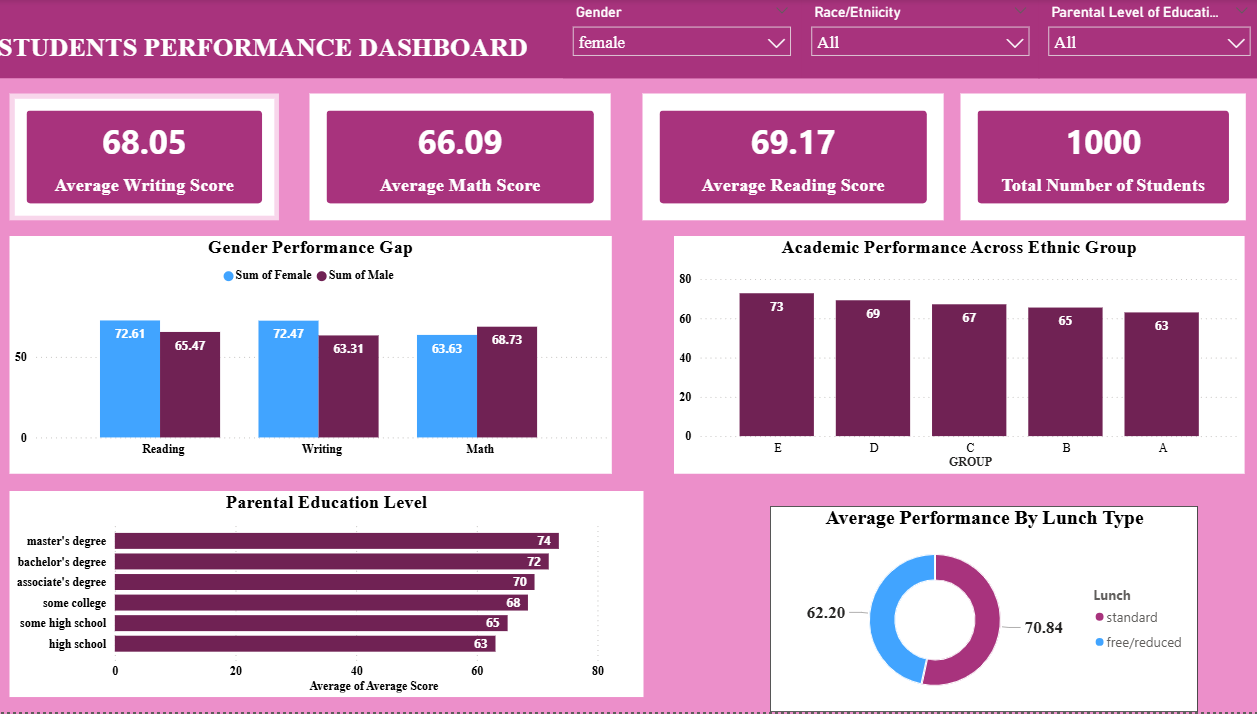

What the dashboard file says about the page in this screenshot:
{"tool":"powerbi","page":{"name":"Page 1","canvas":[1280,720],"ordinal":0},"visuals":[{"type":"cardVisual","fields":{"Data":["Avg(Table 1 (StudentsPerformance).average math score)"]},"box":[320,96,304,128],"z":0},{"type":"cardVisual","fields":{"Data":["CountNonNull(StudentsPerformance.gender)"]},"box":[976,96,288,128],"z":1000},{"type":"cardVisual","fields":{"Data":["Sum(Table 1 (StudentsPerformance).average reading score)"]},"box":[656,96,304,128],"z":2000},{"type":"textbox","box":[0,0,1280,80],"z":3000},{"type":"slicer","fields":{"Values":["Table 1 (StudentsPerformance).race/ethnicity"]},"box":[816,0,240,80],"z":5000},{"type":"slicer","fields":{"Values":["Table 1 (StudentsPerformance).parental level of education"]},"box":[1056,0,224,80],"z":6000},{"type":"cardVisual","fields":{"Data":["Sum(Table 1 (StudentsPerformance).average writing score)"]},"box":[16,96,272,128],"z":7000},{"type":"clusteredColumnChart","title":"Gender Performance Gap","fields":{"Category":["Gender Gap.Subject"],"Y":["Sum(Gender Gap.Female)","Sum(Gender Gap.Male)"]},"box":[16,240,608,240],"z":8000},{"type":"columnChart","title":"Academic Performance Across Ethnic Group","fields":{"Category":["Table.GROUP"],"Y":["Sum(Table.Average 3 subjects for each group)"]},"box":[688,240,576,240],"z":9000},{"type":"clusteredBarChart","title":"Parental Education Level","fields":{"Category":["Parental Level 01.Level of Education"],"Y":["Avg(Parental Level 01.Average Score)"]},"box":[16,496,640,208],"z":10000},{"type":"donutChart","title":"Average Performance By Lunch Type","fields":{"Category":["Lunch 01.Lunch"],"Y":["Sum(Lunch 01.Overall Average)"]},"box":[784,512,432,208],"z":11000},{"type":"slicer","fields":{"Values":["Table 1 (StudentsPerformance).gender"]},"box":[576,0,240,80],"z":12000}]}

Visuals, with their boxes in screenshot pixels (x1, y1, x2, y2), scaled from the page's 1280x720 canvas onto the 1257x714 screenshot:
cardVisual - Avg(Table 1 (StudentsPerformance).average math score): [x1=314, y1=95, x2=613, y2=222]
cardVisual - CountNonNull(StudentsPerformance.gender): [x1=958, y1=95, x2=1241, y2=222]
cardVisual - Sum(Table 1 (StudentsPerformance).average reading score): [x1=644, y1=95, x2=943, y2=222]
textbox: [x1=0, y1=0, x2=1256, y2=79]
slicer - Table 1 (StudentsPerformance).race/ethnicity: [x1=801, y1=0, x2=1037, y2=79]
slicer - Table 1 (StudentsPerformance).parental level of education: [x1=1037, y1=0, x2=1256, y2=79]
cardVisual - Sum(Table 1 (StudentsPerformance).average writing score): [x1=16, y1=95, x2=283, y2=222]
"Gender Performance Gap" clusteredColumnChart: [x1=16, y1=238, x2=613, y2=476]
"Academic Performance Across Ethnic Group" columnChart: [x1=676, y1=238, x2=1241, y2=476]
"Parental Education Level" clusteredBarChart: [x1=16, y1=492, x2=644, y2=698]
"Average Performance By Lunch Type" donutChart: [x1=770, y1=508, x2=1194, y2=713]
slicer - Table 1 (StudentsPerformance).gender: [x1=566, y1=0, x2=801, y2=79]
